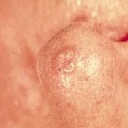Carcinoma: (52, 47, 77, 75)
